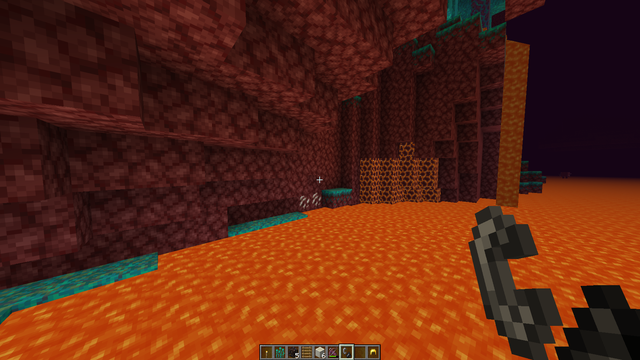quartz: (297, 192, 327, 210)
